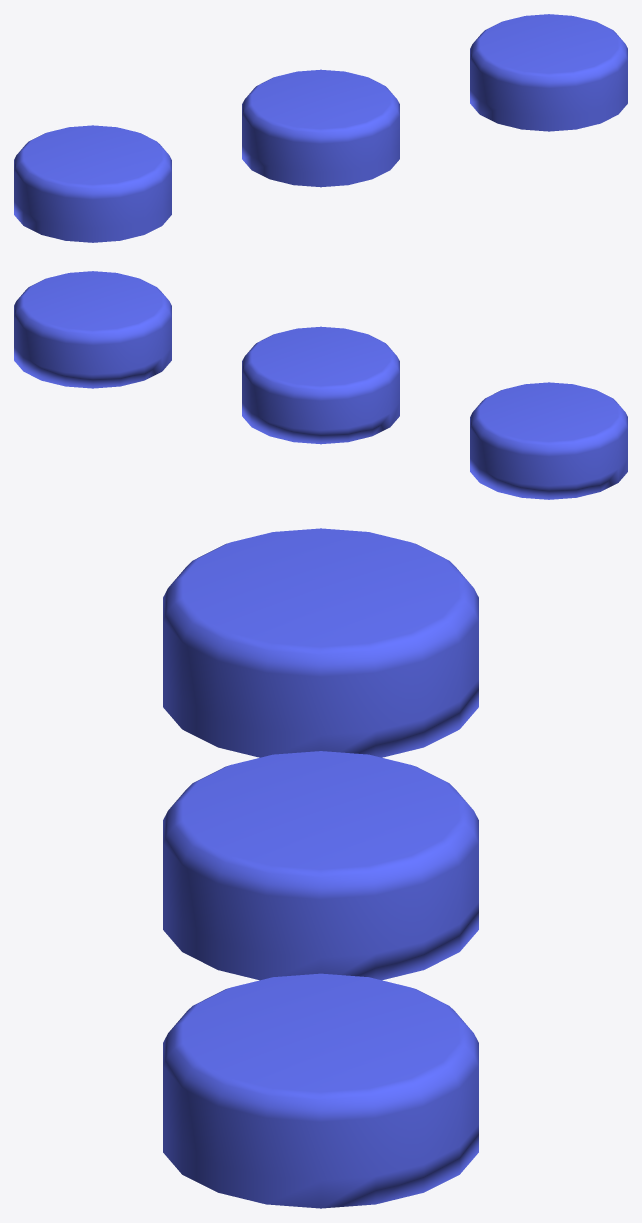
Rendered from _eadcube9.fbx.
The picture shows the model from 3 angles, top to bottom: view 1: azimuth 30°, elevation 25°; view 2: azimuth 150°, elevation 25°; view 3: azimuth 270°, elevation 25°; orthographic projection. The views are drawn at different scales.
Parts seen in each view (by area): view 1: head_cube9; view 2: head_cube9; view 3: head_cube9.
Boxes of the visible parts, bbox=[...] form: head_cube9: bbox=[14, 14, 627, 242]; head_cube9: bbox=[14, 271, 627, 499]; head_cube9: bbox=[163, 528, 478, 1208].
Bounding box in the file's own units: 261 × 22.62 × 59.94.
